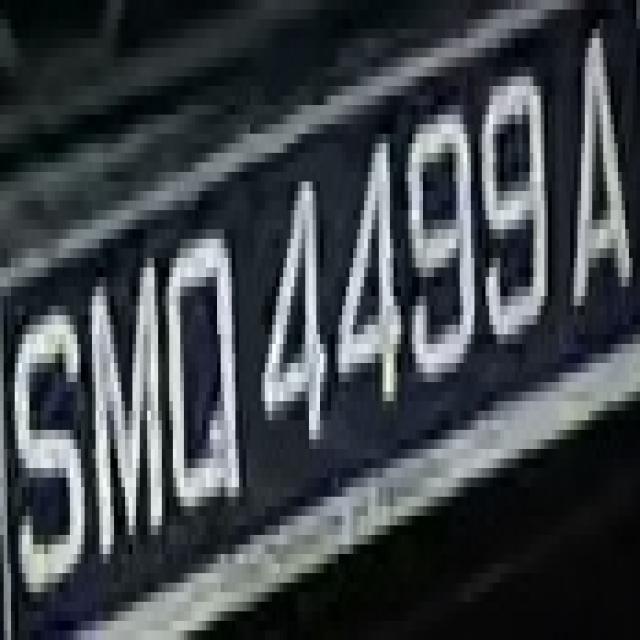4: (246, 152, 331, 478), (324, 124, 401, 440)
9: (471, 29, 555, 382), (390, 96, 482, 410)
A: (548, 19, 640, 325)
M: (84, 238, 166, 564)
Q: (158, 200, 239, 526)
S: (15, 268, 92, 612)
